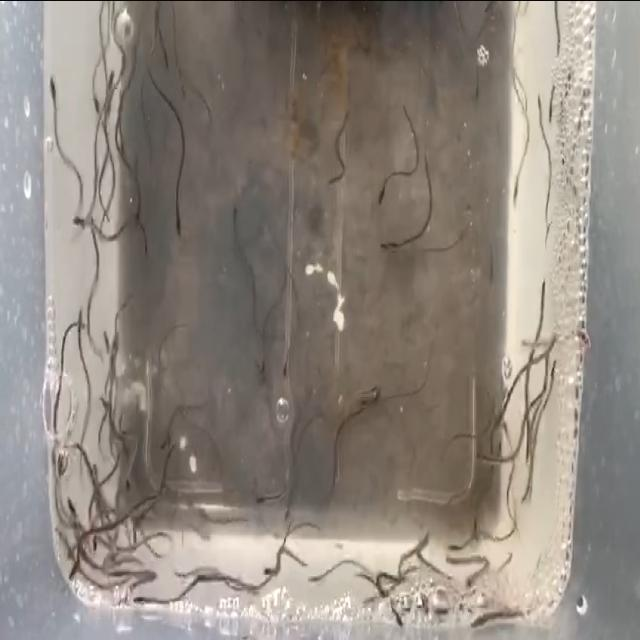inactive_glass_eel: (356, 370, 384, 429), (74, 288, 92, 352), (374, 223, 398, 271), (152, 414, 174, 466), (383, 588, 410, 630), (66, 196, 90, 242), (105, 46, 123, 102), (274, 338, 290, 394), (67, 544, 87, 588), (374, 170, 394, 213), (258, 544, 282, 578), (123, 464, 142, 504), (230, 194, 246, 240), (518, 466, 536, 506), (45, 72, 67, 104), (176, 206, 190, 254), (66, 491, 82, 533), (92, 76, 105, 126), (536, 262, 550, 308), (133, 176, 147, 217), (544, 90, 557, 133), (472, 69, 488, 102), (532, 78, 548, 110), (84, 540, 102, 568), (276, 495, 294, 523), (510, 174, 520, 220), (252, 492, 268, 518), (443, 532, 459, 558), (544, 355, 558, 383), (474, 440, 488, 466), (56, 439, 66, 475)
